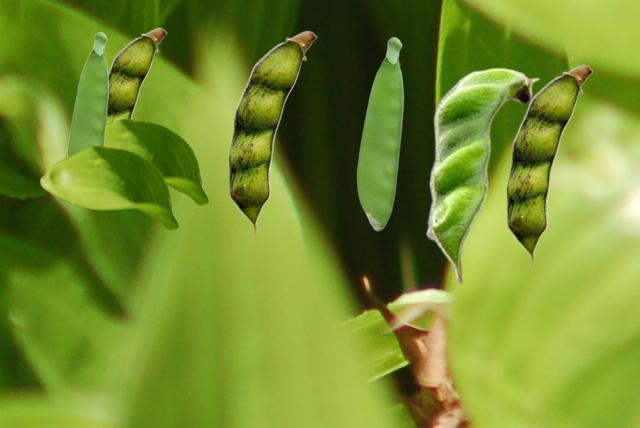pea: (425, 67, 539, 283), (228, 30, 316, 237), (506, 64, 592, 267), (356, 36, 403, 230), (107, 27, 166, 122), (67, 31, 108, 156)
